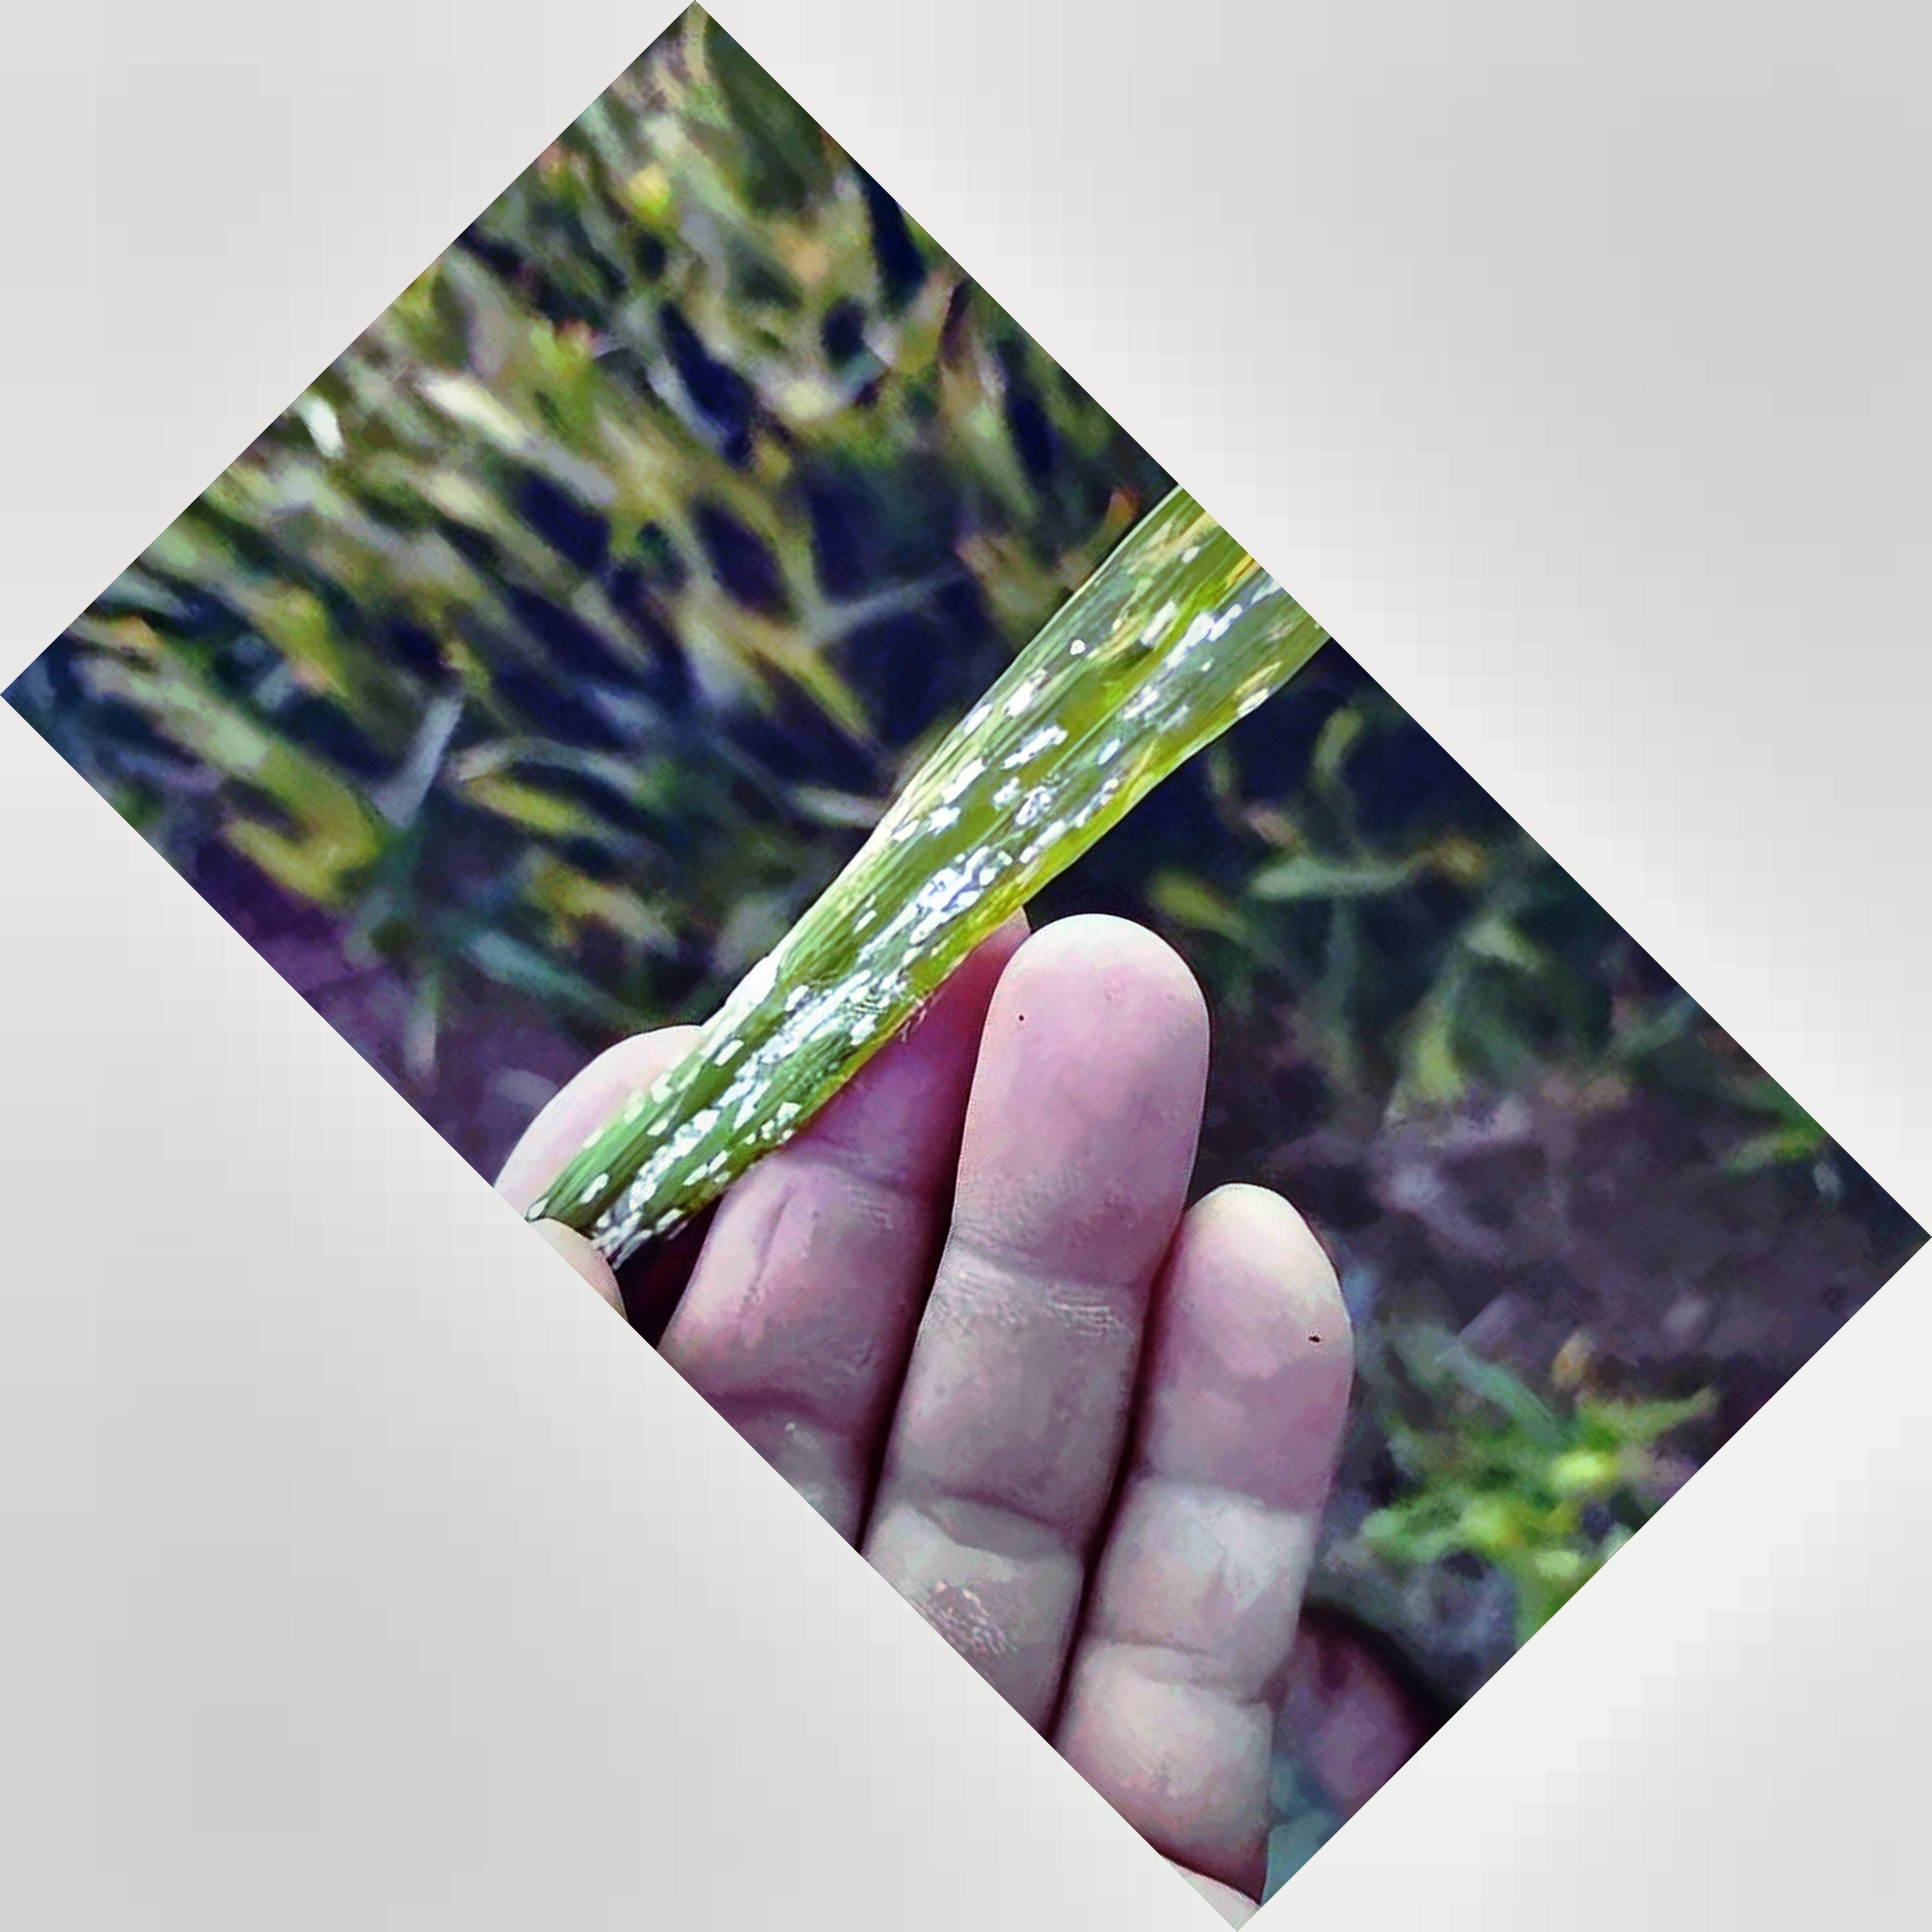Powdery Mildew: (559, 561, 1276, 1249)
